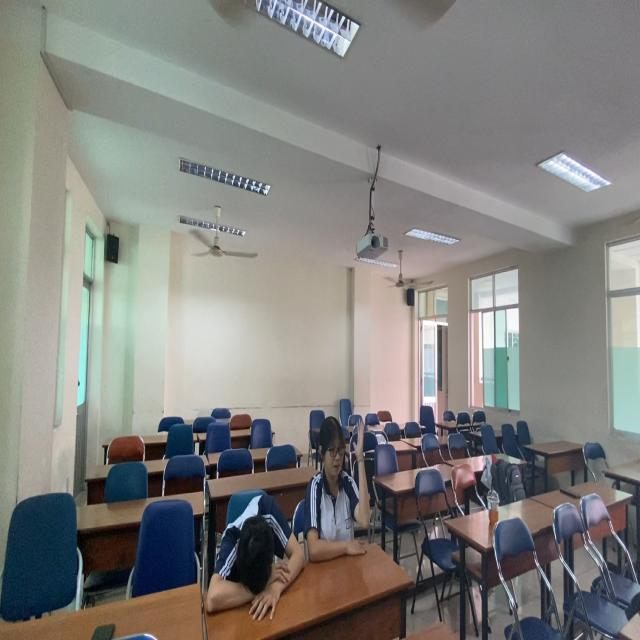raise_hand: (310, 390, 374, 562)
sleep: (196, 485, 308, 623)
